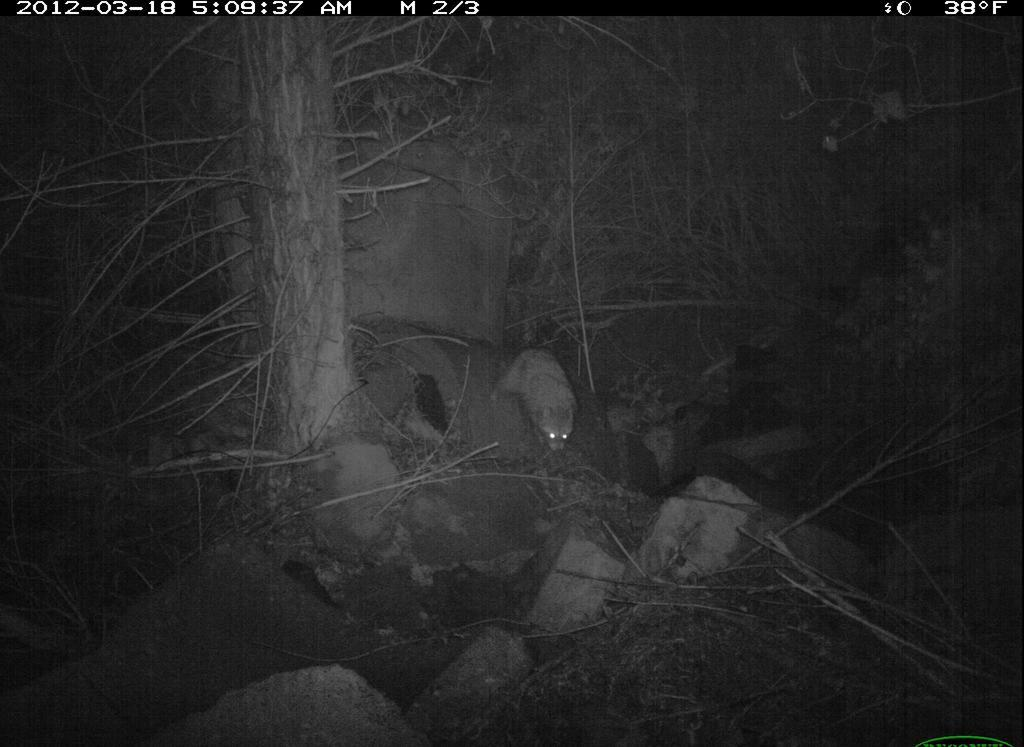raccoon: (487, 344, 596, 461)
